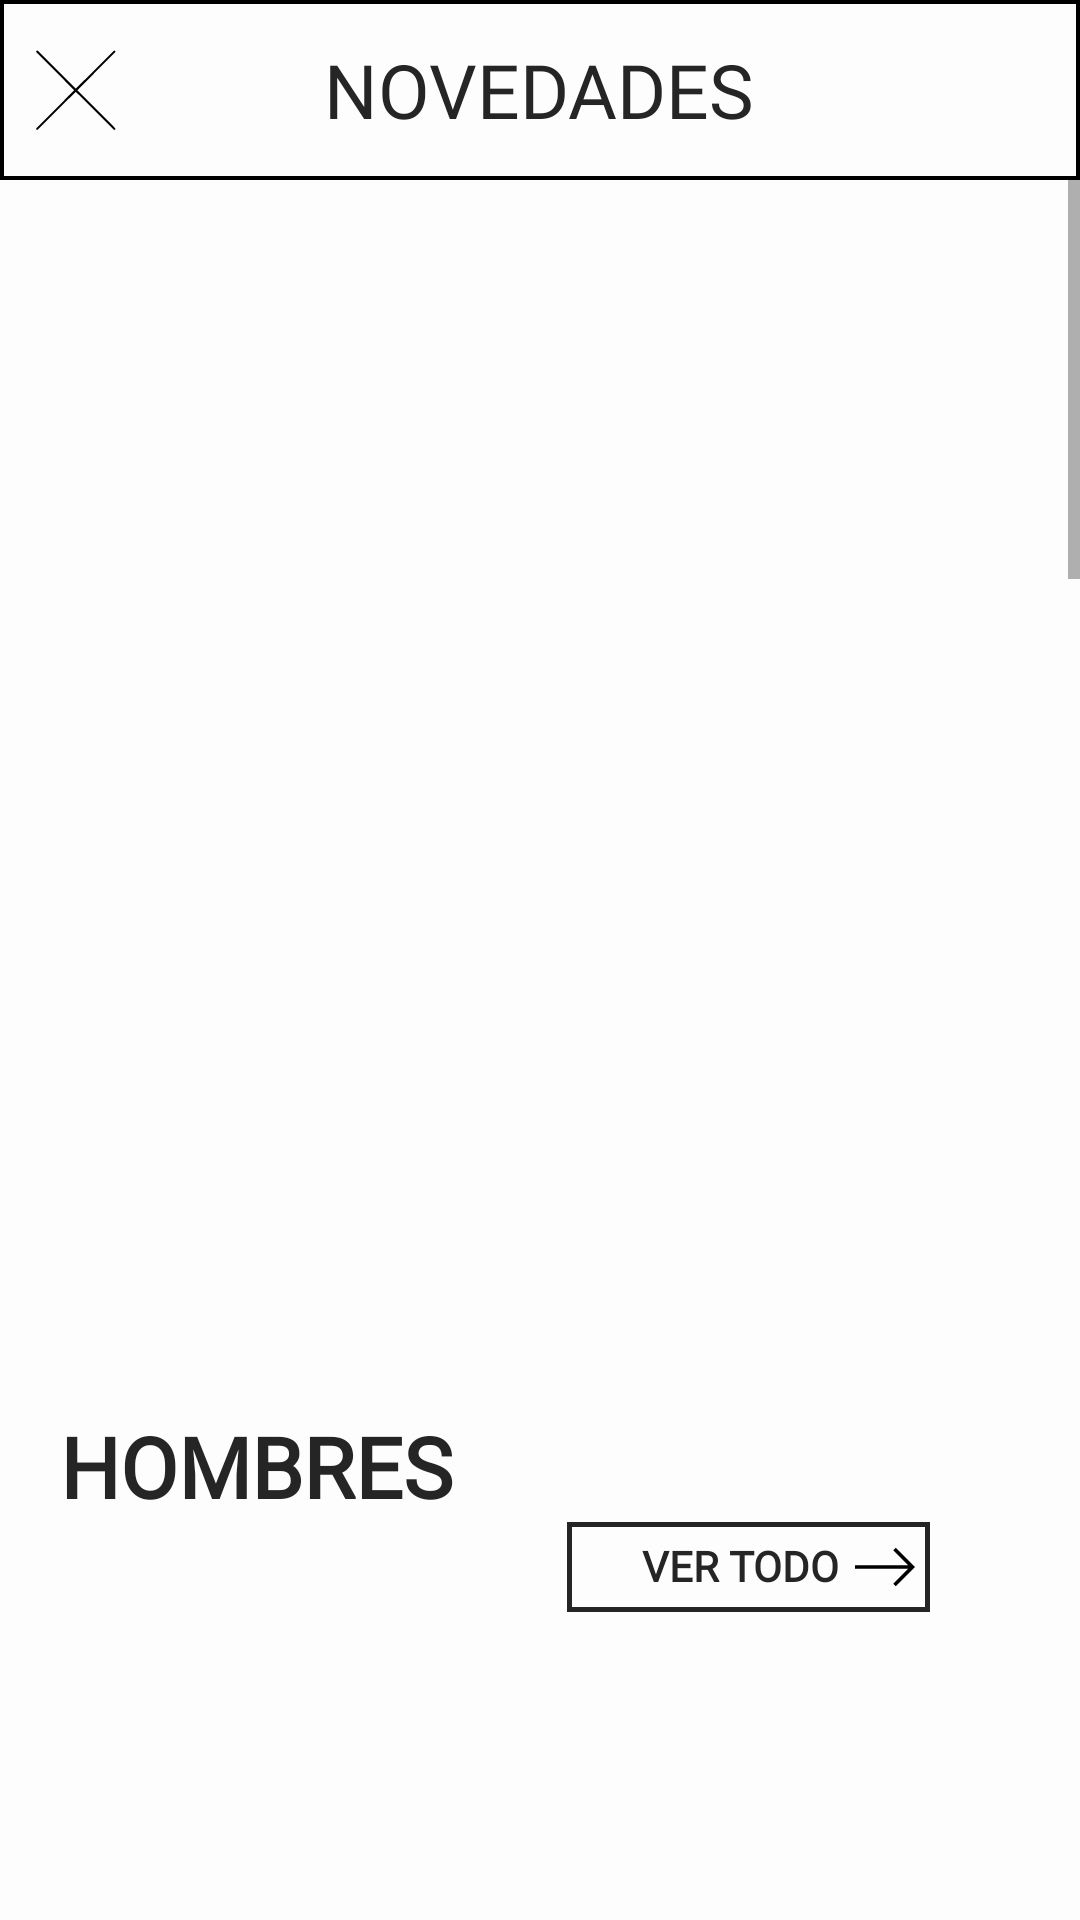

Screen size 1080 x 1920. Icon name, then its center in pixels as (x=x, y=y):
arrow: (x=885, y=1567)
cruz: (x=75, y=90)
